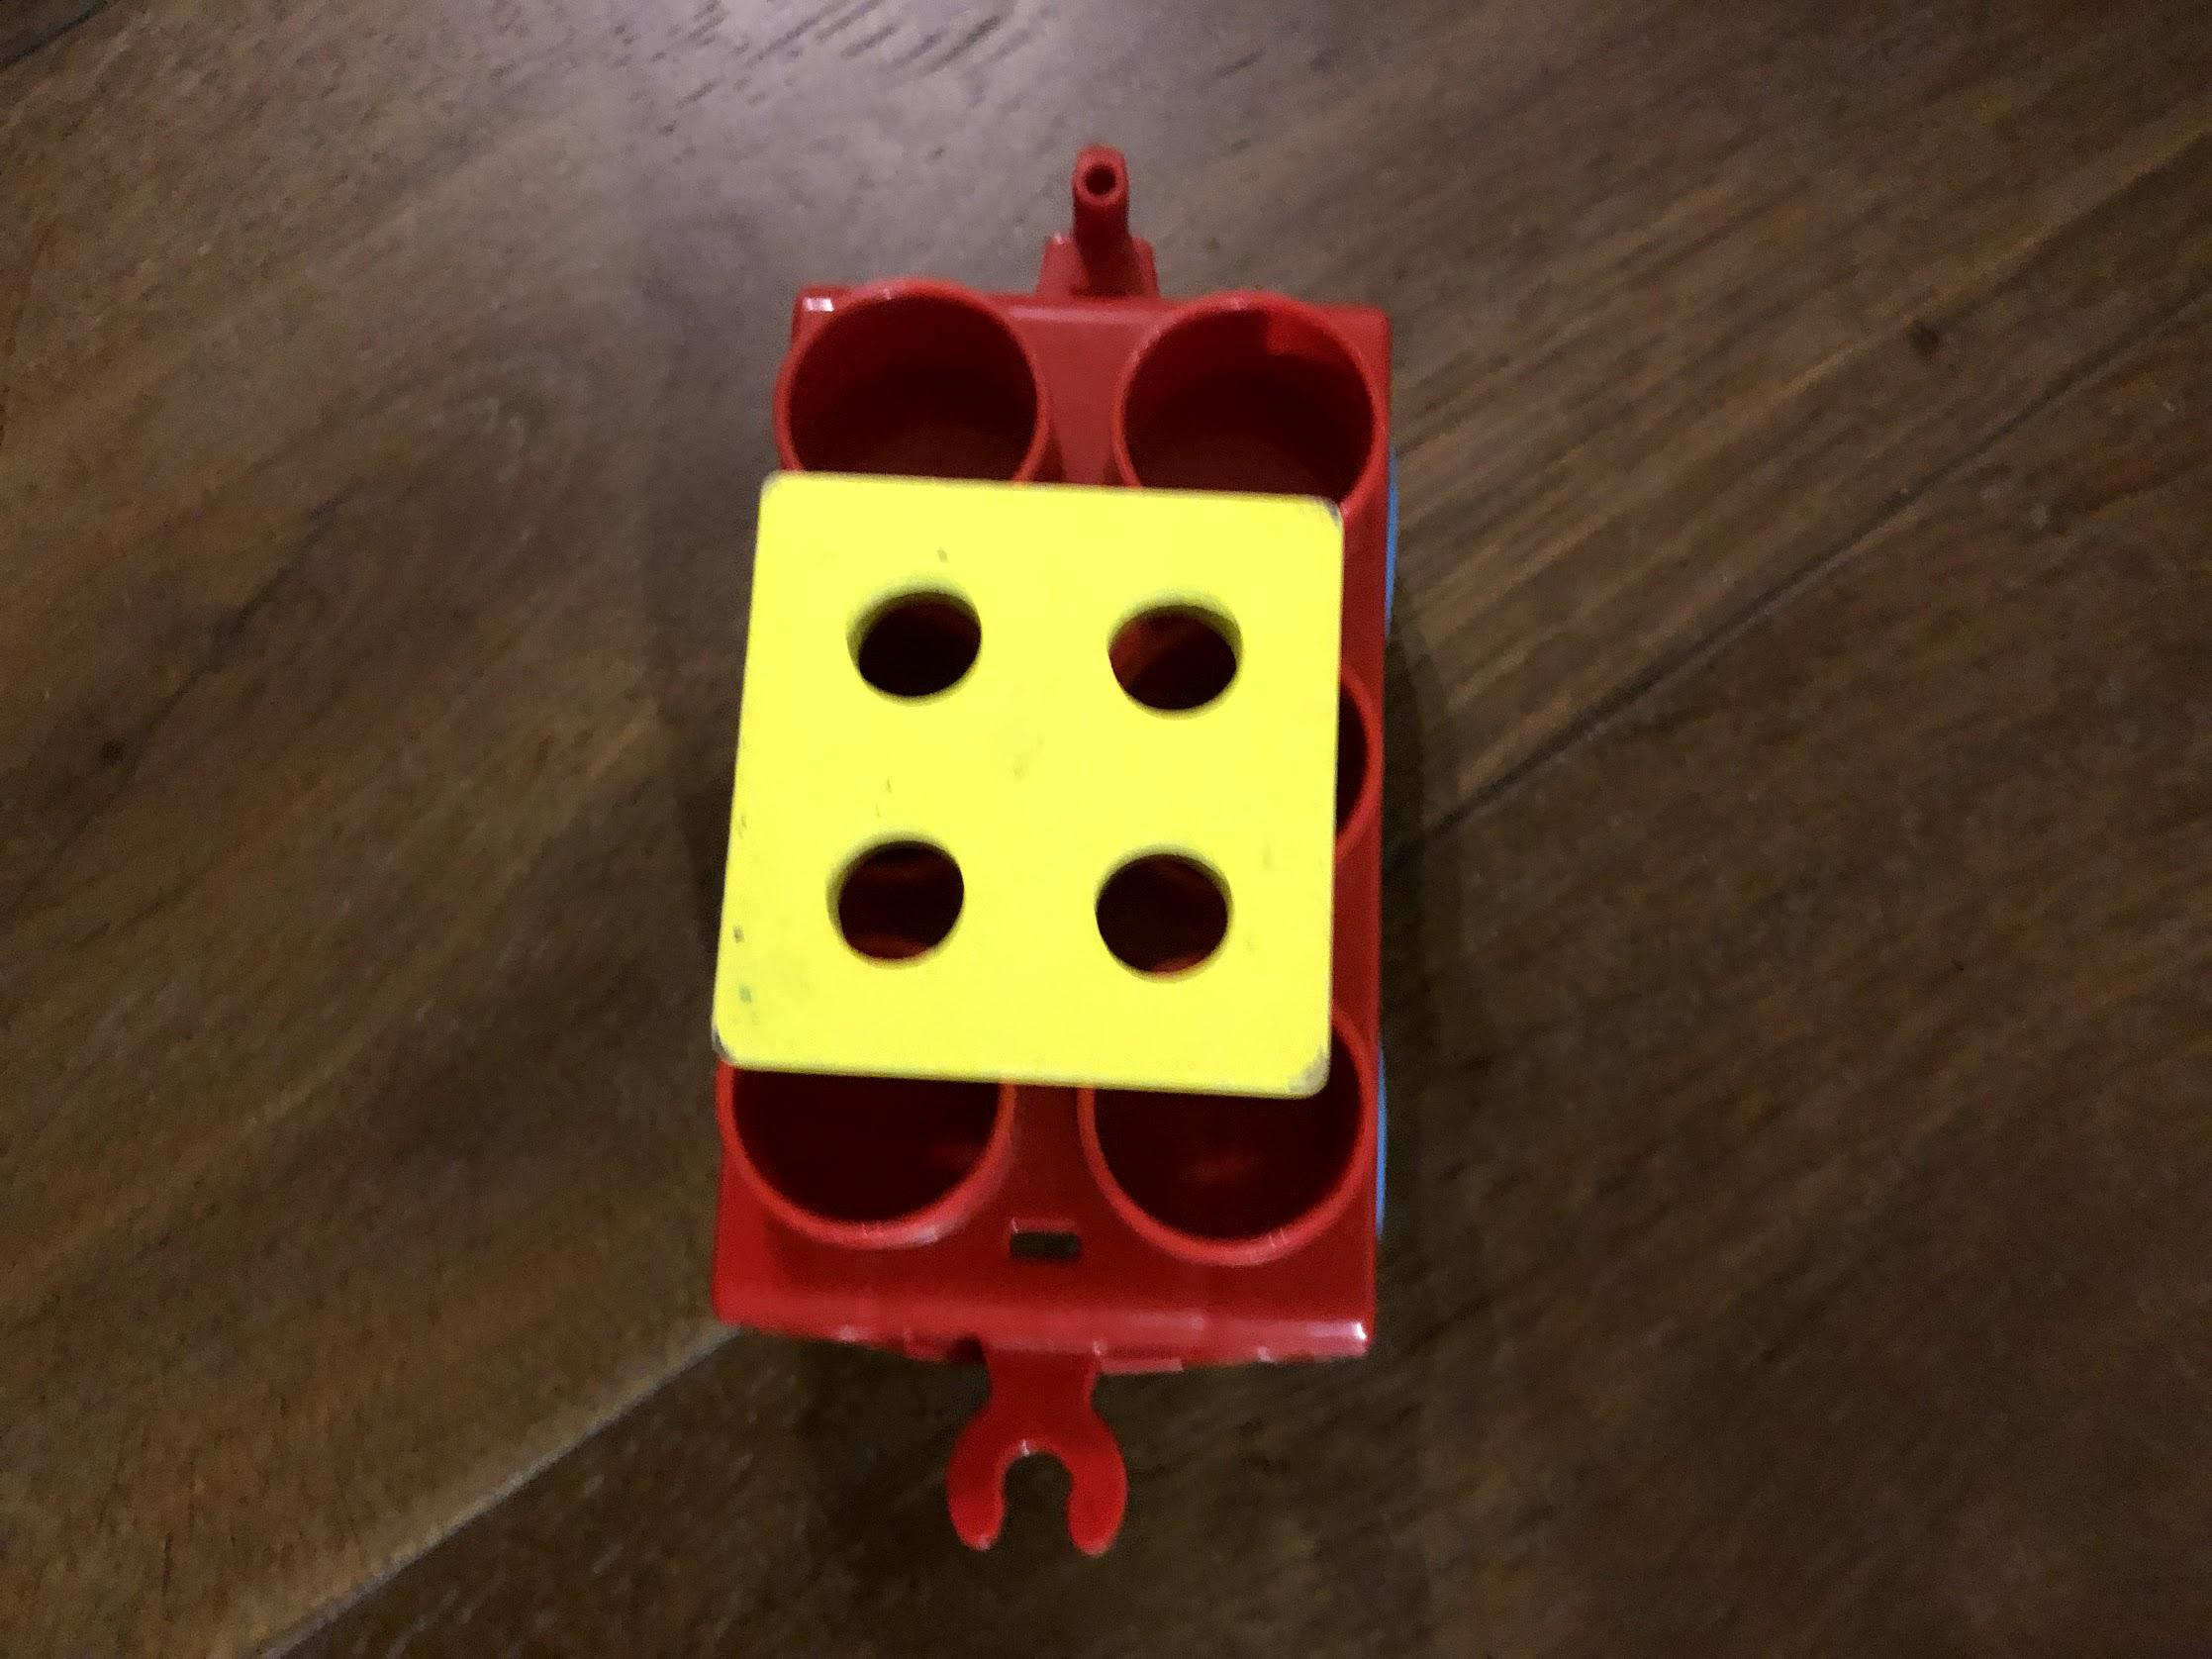Square: (725, 476, 1338, 1093)
